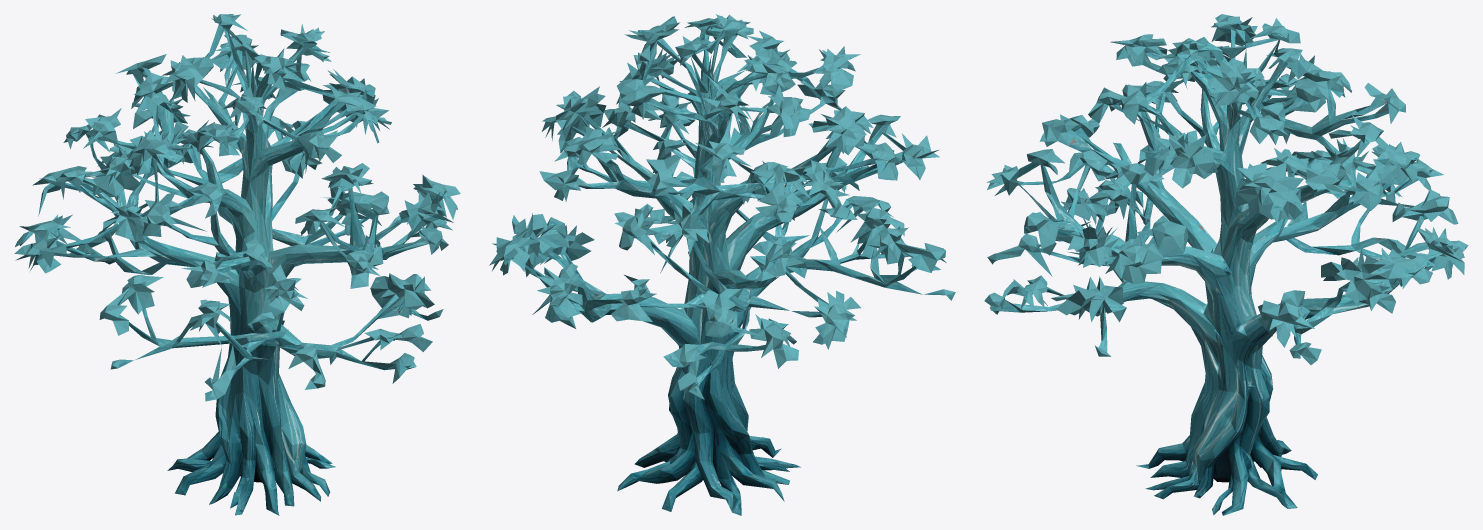
Rendered from knd_tree_neon_01.glb.
3 views of the same model, side by side, from view 1: azimuth 30°, elevation 25°; view 2: azimuth 150°, elevation 25°; view 3: azimuth 270°, elevation 25° (orthographic). The views are drawn at different scales.
Parts seen in each view (by area): view 1: tripo_node_d82b2b8c-4171-4689-90ea-1525b28c5aa5; view 2: tripo_node_d82b2b8c-4171-4689-90ea-1525b28c5aa5; view 3: tripo_node_d82b2b8c-4171-4689-90ea-1525b28c5aa5.
Boxes of the visible parts, x1,y1,x2,y2 form: tripo_node_d82b2b8c-4171-4689-90ea-1525b28c5aa5: (14, 14, 460, 515); tripo_node_d82b2b8c-4171-4689-90ea-1525b28c5aa5: (489, 14, 955, 515); tripo_node_d82b2b8c-4171-4689-90ea-1525b28c5aa5: (984, 14, 1468, 515).
Bounding box in the file's own units: 0.8134 × 0.9738 × 0.945.
1 material, 1 textured.
